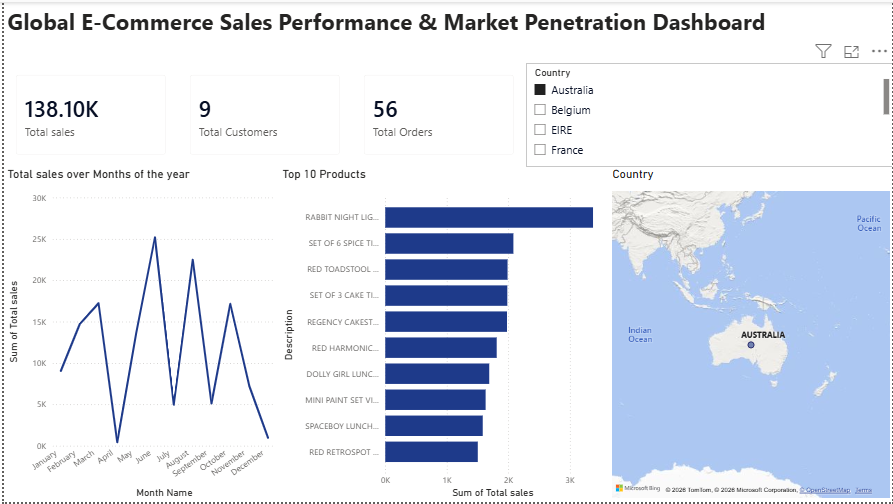

The dashboard page shown, as its layout file describes it:
{"tool":"powerbi","page":{"name":"Page 1","canvas":[1280,720],"ordinal":0},"visuals":[{"type":"cardVisual","fields":{"Data":["Sum(Book1.Total sales)"]},"box":[0,87.8,250.3,149.5],"z":0},{"type":"cardVisual","fields":{"Data":["Count(Book1.CustomerID)"]},"box":[250.6,87.8,250.6,149.8],"z":1000},{"type":"textbox","box":[0,0,1280.2,87.8],"z":2000},{"type":"cardVisual","fields":{"Data":["Count(Book1.InvoiceNo)"]},"box":[501.1,87.8,250.6,149.8],"z":3000},{"type":"lineChart","title":"Total sales over Months of the year","fields":{"Category":["Book1.Month Name"],"Y":["Sum(Book1.Total sales)"]},"box":[0,237.6,396,482.4],"z":4000},{"type":"clusteredBarChart","title":"Top 10 Products","fields":{"Category":["Book1.Description"],"Y":["Sum(Book1.Total sales)"]},"box":[396,237.6,475.2,482.4],"z":5000},{"type":"map","fields":{"Category":["Book1.Country"]},"box":[871.2,237.6,409,482.4],"z":6000},{"type":"slicer","fields":{"Values":["Book1.Country"]},"box":[752,88,528,150],"z":6001}]}

Visuals, with their boxes in screenshot pixels (x1, y1, x2, y2), scaled from the page's 1280x720 canvas onto the 893x504 screenshot:
cardVisual - Sum(Book1.Total sales): crop(0, 61, 175, 166)
cardVisual - Count(Book1.CustomerID): crop(175, 61, 350, 166)
textbox: crop(0, 0, 892, 61)
cardVisual - Count(Book1.InvoiceNo): crop(350, 61, 524, 166)
"Total sales over Months of the year" lineChart: crop(0, 166, 276, 503)
"Top 10 Products" clusteredBarChart: crop(276, 166, 608, 503)
map - Book1.Country: crop(608, 166, 892, 503)
slicer - Book1.Country: crop(525, 62, 892, 167)
